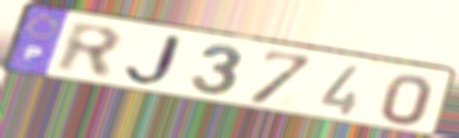0: (374, 71, 436, 128)
3: (190, 43, 246, 97)
4: (318, 64, 361, 117)
7: (247, 48, 316, 108)
J: (121, 33, 192, 89)
R: (53, 18, 125, 82)
